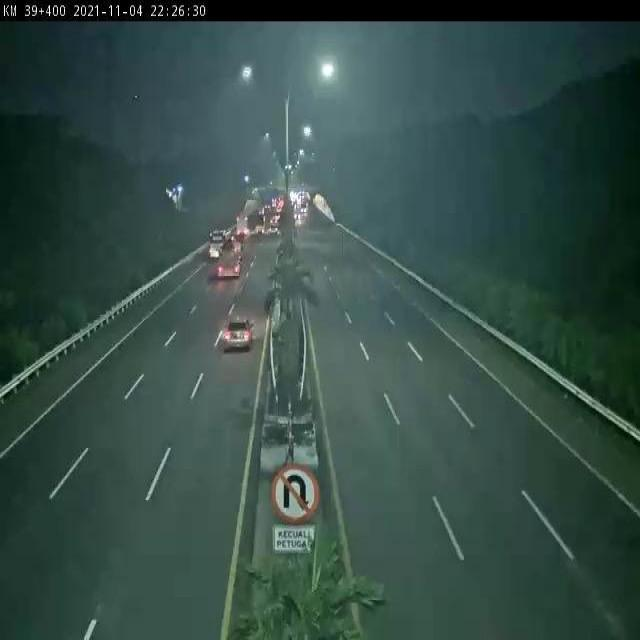car: (211, 304, 259, 375)
